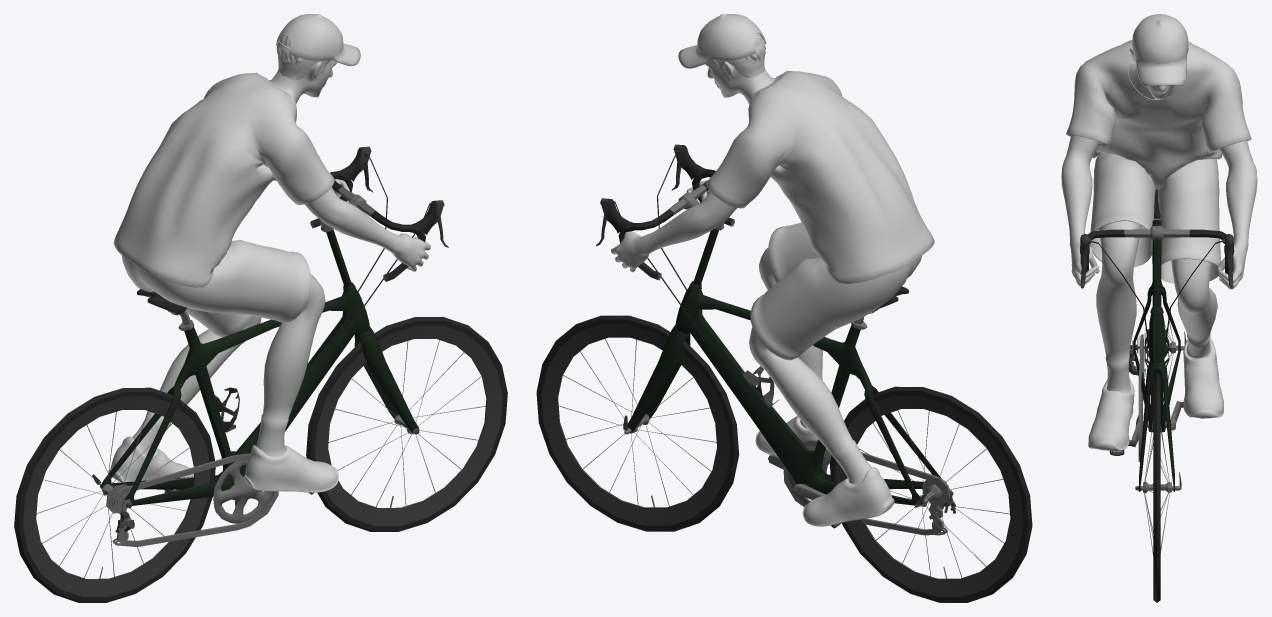
Rendered from sm_xds_bicycle_modelcenterpoint_lod_2.fbx.
3 renders of one model, left to right at view 1: azimuth 30°, elevation 25°; view 2: azimuth 150°, elevation 25°; view 3: azimuth 270°, elevation 25°, orthographic.
Visible parts, largest first — view 1: sm_xdsFBXASC045bicycle_lod_3; view 2: sm_xdsFBXASC045bicycle_lod_3; view 3: sm_xdsFBXASC045bicycle_lod_3.
Part boxes in pixels (box(x1,y1,x2,y2)): sm_xdsFBXASC045bicycle_lod_3: box(14, 14, 507, 602); sm_xdsFBXASC045bicycle_lod_3: box(536, 14, 1032, 602); sm_xdsFBXASC045bicycle_lod_3: box(1061, 14, 1257, 602).
Bounding box in the file's own units: 1.67 × 1.73 × 0.5801.
